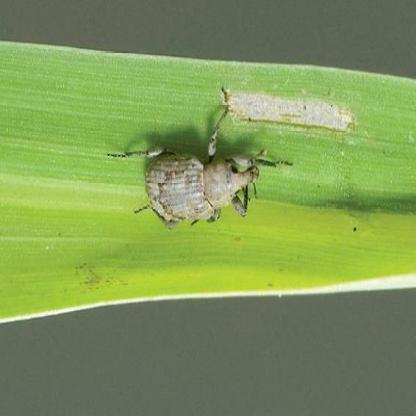rice-bug: (113, 104, 265, 228)
